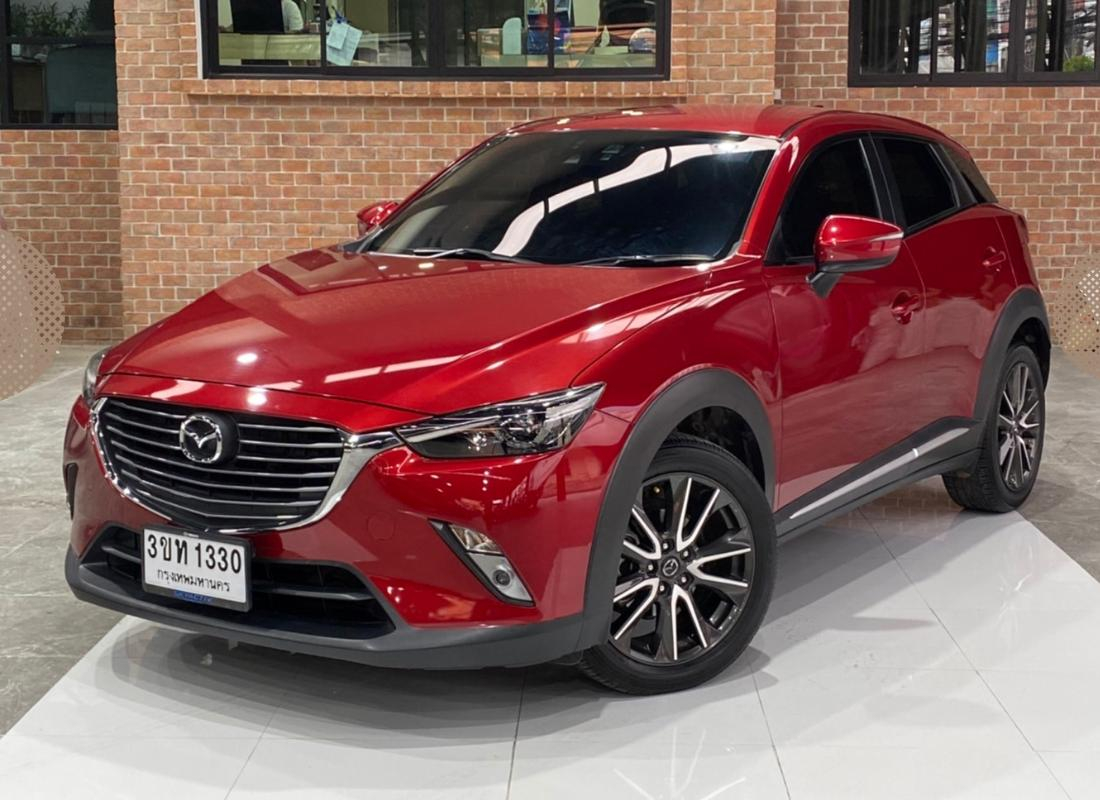license-plate: (139, 522, 252, 615)
